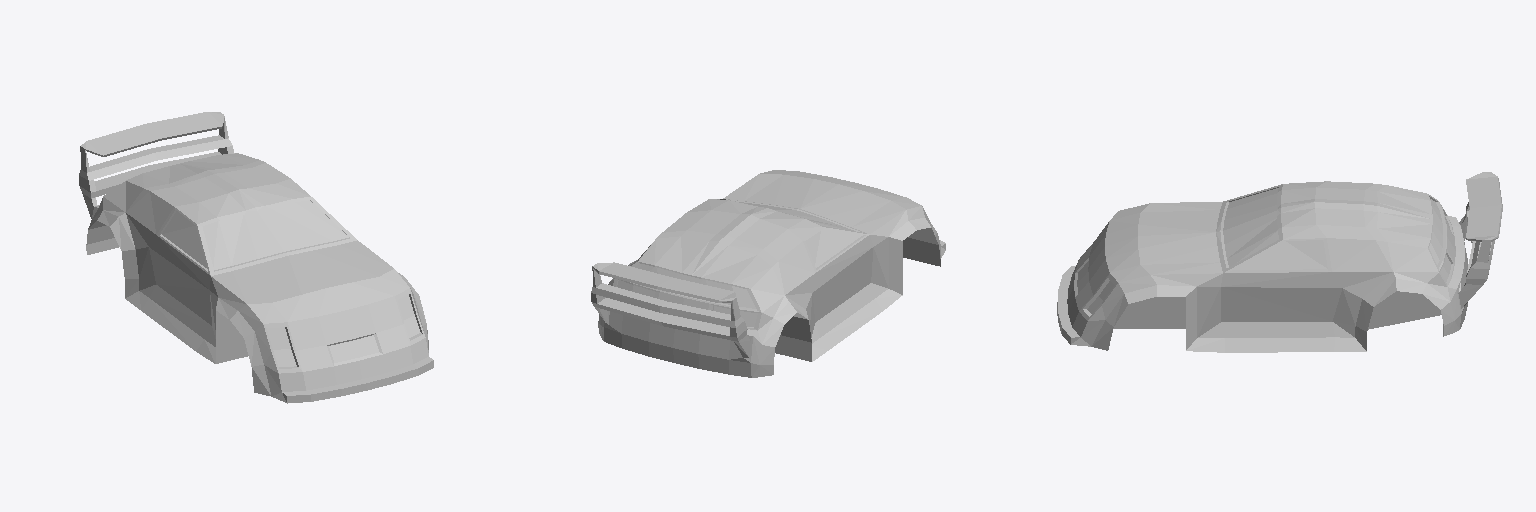
File: escudo.obj
3 views of the same model, side by side, from view 1: azimuth 30°, elevation 25°; view 2: azimuth 150°, elevation 25°; view 3: azimuth 270°, elevation 25° (orthographic).
Parts seen in each view (by area): view 1: Body_Mesh_18; view 2: Body_Mesh_18; view 3: Body_Mesh_18.
Part boxes in pixels (left/top/right/bottom): Body_Mesh_18: left=79, top=112, right=433, bottom=403; Body_Mesh_18: left=591, top=170, right=945, bottom=377; Body_Mesh_18: left=1057, top=172, right=1502, bottom=352.
Size of the model in its own units: 2.02 by 1.19 by 4.45.